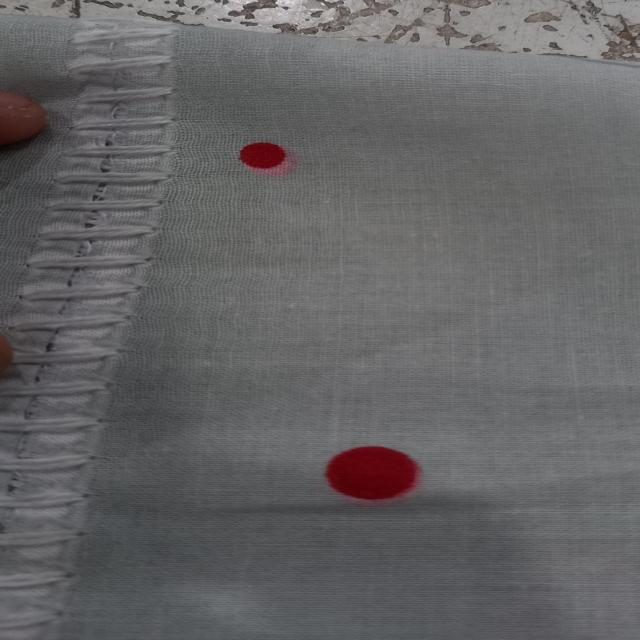gray stitch: (0, 16, 185, 640)
